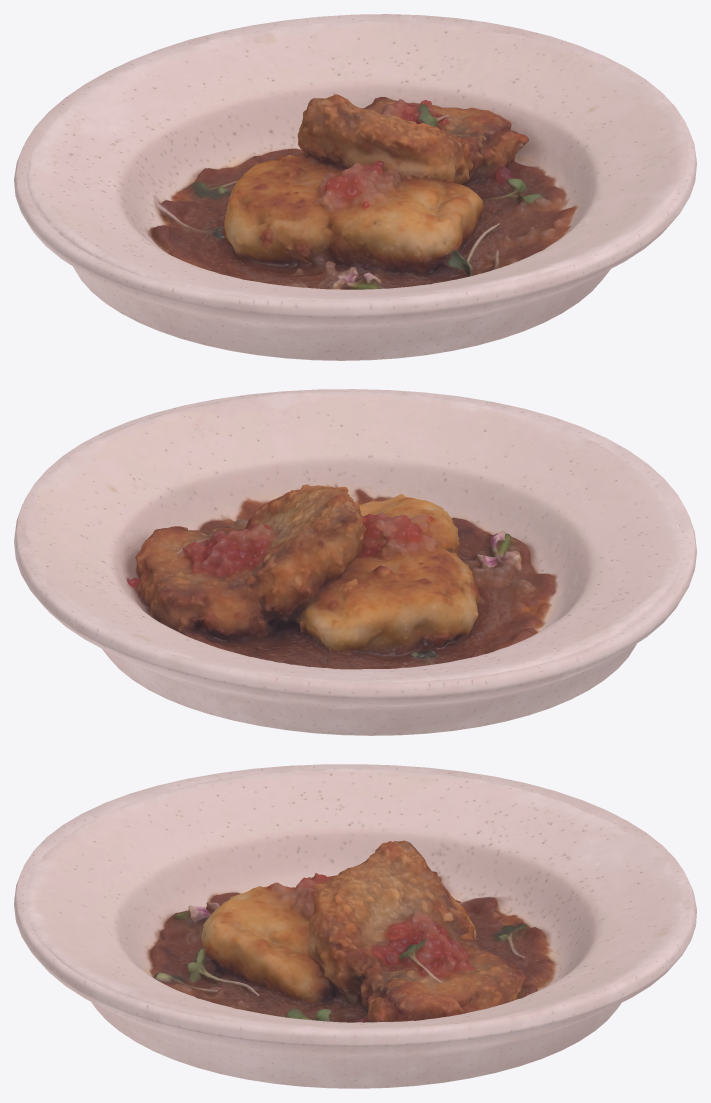
Rendered from Bhaja twist.glb.
3 views of the same model, one above another, from view 1: azimuth 30°, elevation 25°; view 2: azimuth 150°, elevation 25°; view 3: azimuth 270°, elevation 25° (orthographic).
Visible parts, largest first — view 1: polySurface6, pCylinder1.001; view 2: polySurface6, pCylinder1.001; view 3: polySurface6, pCylinder1.001.
Boxes of the visible parts, bbox=[...] form: polySurface6: bbox=[16, 20, 688, 300]; pCylinder1.001: bbox=[14, 14, 696, 360]; polySurface6: bbox=[25, 391, 683, 703]; pCylinder1.001: bbox=[14, 389, 696, 735]; polySurface6: bbox=[14, 768, 684, 1030]; pCylinder1.001: bbox=[14, 764, 696, 1088].
Size of the model in its own units: 0.1455 by 0.0324 by 0.1449.
2 materials, 2 textured.
